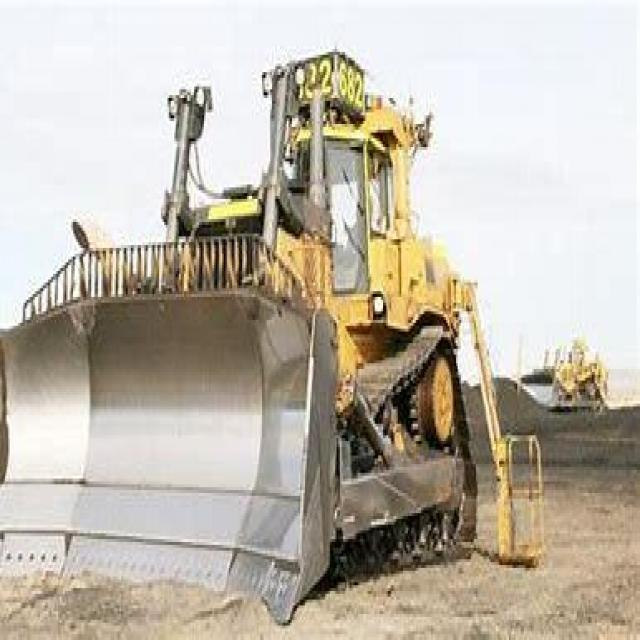Bulldozer: (0, 43, 524, 603)
